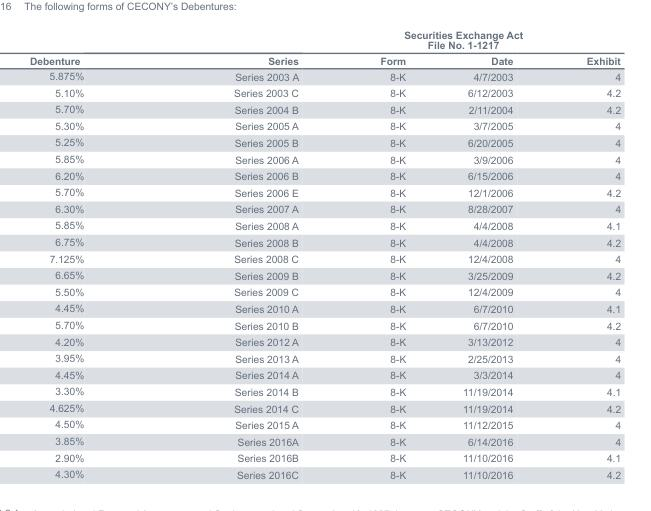table: (28, 28, 620, 480)
table column: (158, 28, 338, 480), (28, 28, 158, 480), (433, 28, 549, 480), (338, 28, 433, 480), (549, 28, 620, 480)
table column header: (28, 28, 620, 67)
table row: (28, 28, 620, 52), (28, 67, 620, 84), (28, 100, 620, 117), (28, 133, 620, 150), (28, 150, 620, 167), (28, 183, 620, 200), (28, 216, 620, 233), (28, 233, 620, 250), (28, 266, 620, 283), (28, 299, 620, 316), (28, 332, 620, 349), (28, 349, 620, 366), (28, 382, 620, 399), (28, 415, 620, 432), (28, 432, 620, 449), (28, 84, 620, 100), (28, 117, 620, 133), (28, 167, 620, 183), (28, 200, 620, 216), (28, 250, 620, 266), (28, 283, 620, 299), (28, 316, 620, 332), (28, 366, 620, 382), (28, 399, 620, 415), (28, 449, 620, 465), (28, 52, 620, 67), (28, 465, 620, 480)
table spanning cell: (158, 28, 338, 67), (338, 28, 620, 52), (28, 28, 158, 67)
